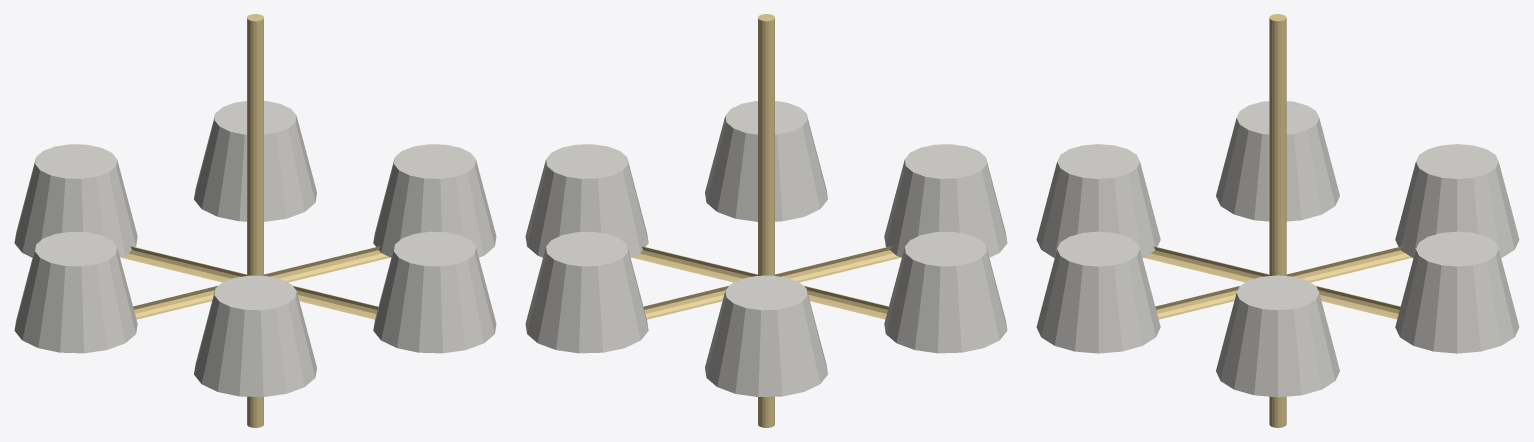
Rendered from bank-vault-heist-kit-lobby-chandelier-62d934eb__25098.glb.
3 renders of one model, left to right at view 1: azimuth 30°, elevation 25°; view 2: azimuth 150°, elevation 25°; view 3: azimuth 270°, elevation 25°, orthographic.
Visible parts, largest first — view 1: lobby-chandelier; view 2: lobby-chandelier; view 3: lobby-chandelier.
Boxes of the visible parts, <box> form: lobby-chandelier: <box>14,14,496,427</box>; lobby-chandelier: <box>525,14,1007,427</box>; lobby-chandelier: <box>1036,14,1519,427</box>.
Bounding box in the file's own units: 1.56 × 1.3 × 1.4.
